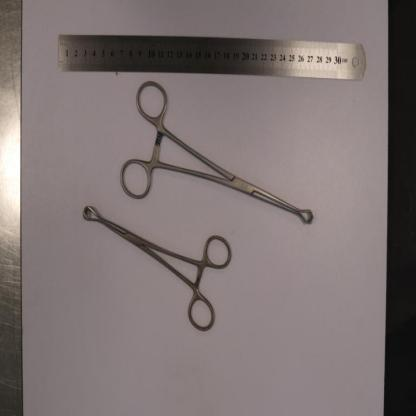8 Babcock Tissue Forceps: (120, 79, 314, 223)
Babcock Tissue Forceps: (84, 205, 230, 329)
